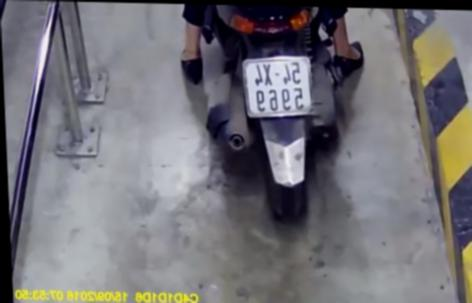License_Plate: (234, 50, 321, 125)
